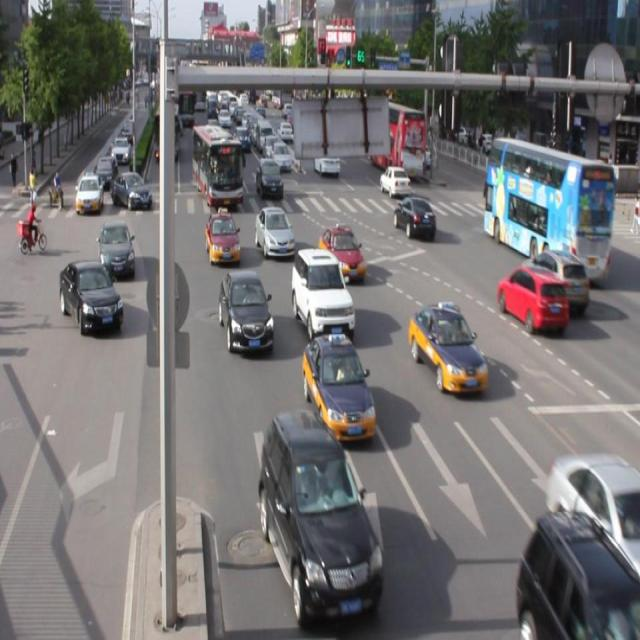car: (258, 409, 383, 622), (514, 507, 640, 639), (546, 453, 640, 578), (303, 337, 376, 443), (409, 302, 487, 395), (290, 248, 354, 339), (495, 265, 568, 336), (60, 260, 123, 339), (220, 270, 274, 355), (522, 248, 588, 316), (318, 226, 365, 286), (98, 222, 136, 280), (255, 206, 295, 257), (204, 211, 240, 267), (392, 195, 436, 239)
van: (483, 138, 613, 280)
